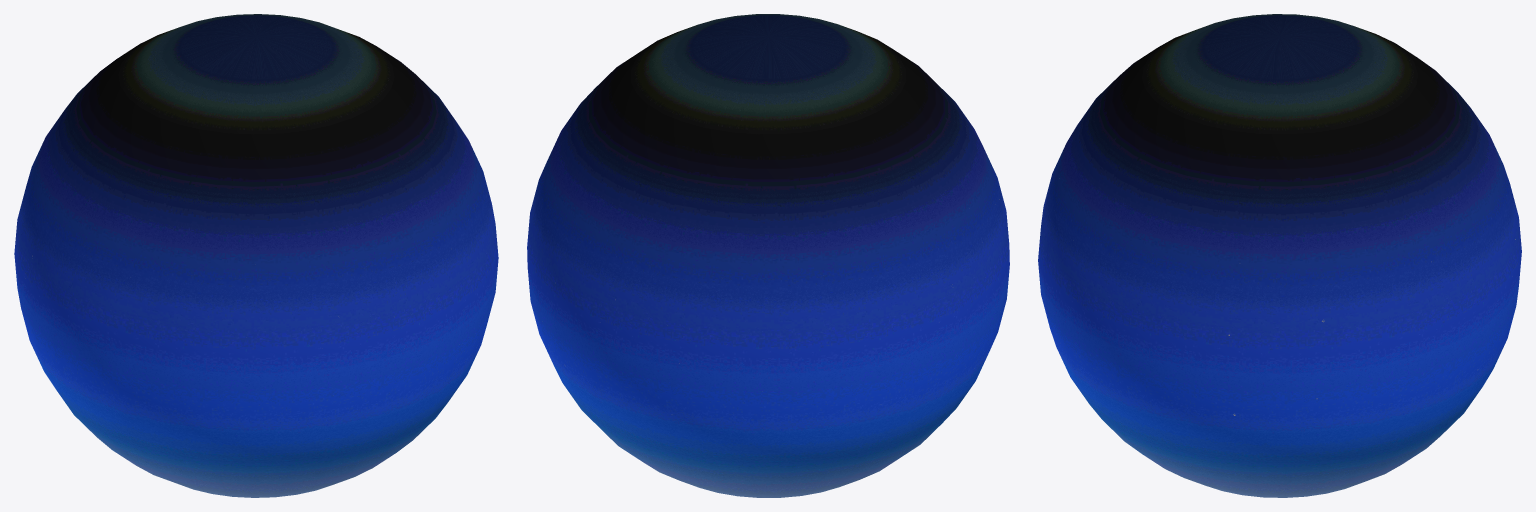
File: gba_rainbow_roadbis.glb
The picture shows the model from 3 angles, left to right: view 1: azimuth 30°, elevation 25°; view 2: azimuth 150°, elevation 25°; view 3: azimuth 270°, elevation 25°; orthographic projection.
Visible parts, largest first — view 1: Object_14; view 2: Object_14; view 3: Object_14.
Boxes of the visible parts, bbox=[...] form: Object_14: bbox=[14, 14, 498, 497]; Object_14: bbox=[527, 14, 1009, 497]; Object_14: bbox=[1038, 14, 1521, 497].
Size of the model in its own units: 2693 by 2695 by 2693.
Materials: 19 (11 with a texture image).
